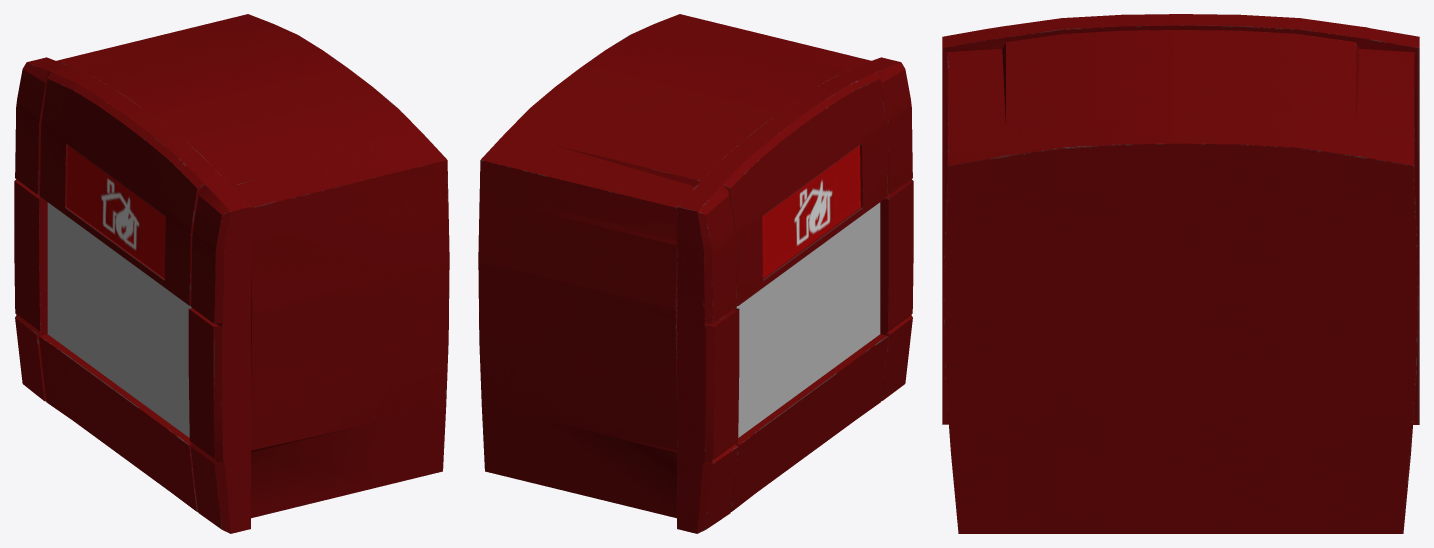
Rendered from SM_Classroom_05.fbx.
The picture shows the model from 3 angles, left to right: view 1: azimuth 30°, elevation 25°; view 2: azimuth 150°, elevation 25°; view 3: azimuth 270°, elevation 25°; orthographic projection. The views are drawn at different scales.
Visible parts, largest first — view 1: SM_Classroom_05; view 2: SM_Classroom_05; view 3: SM_Classroom_05.
Part boxes in pixels (x1=…): SM_Classroom_05: x1=14, y1=14, x2=449, y2=533; SM_Classroom_05: x1=478, y1=14, x2=913, y2=533; SM_Classroom_05: x1=942, y1=14, x2=1419, y2=533.
Size of the model in its own units: 8.43 by 12.71 by 11.74.
Materials: 2 (1 with a texture image).
